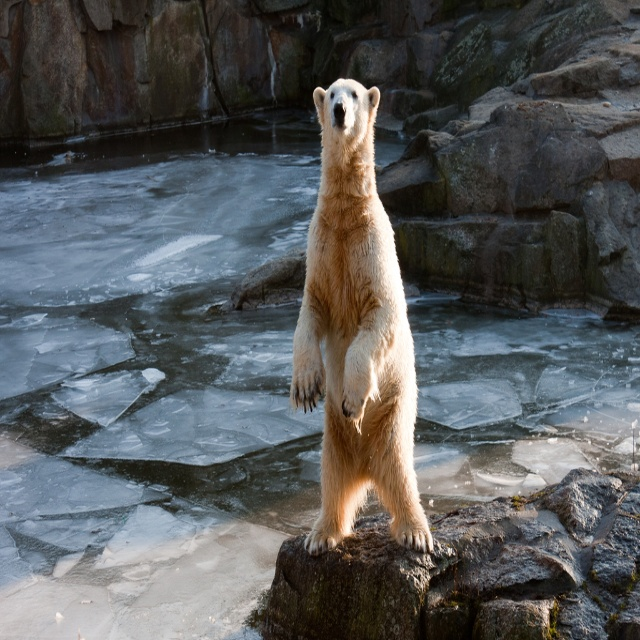Polar bear: (284, 82, 433, 569)
